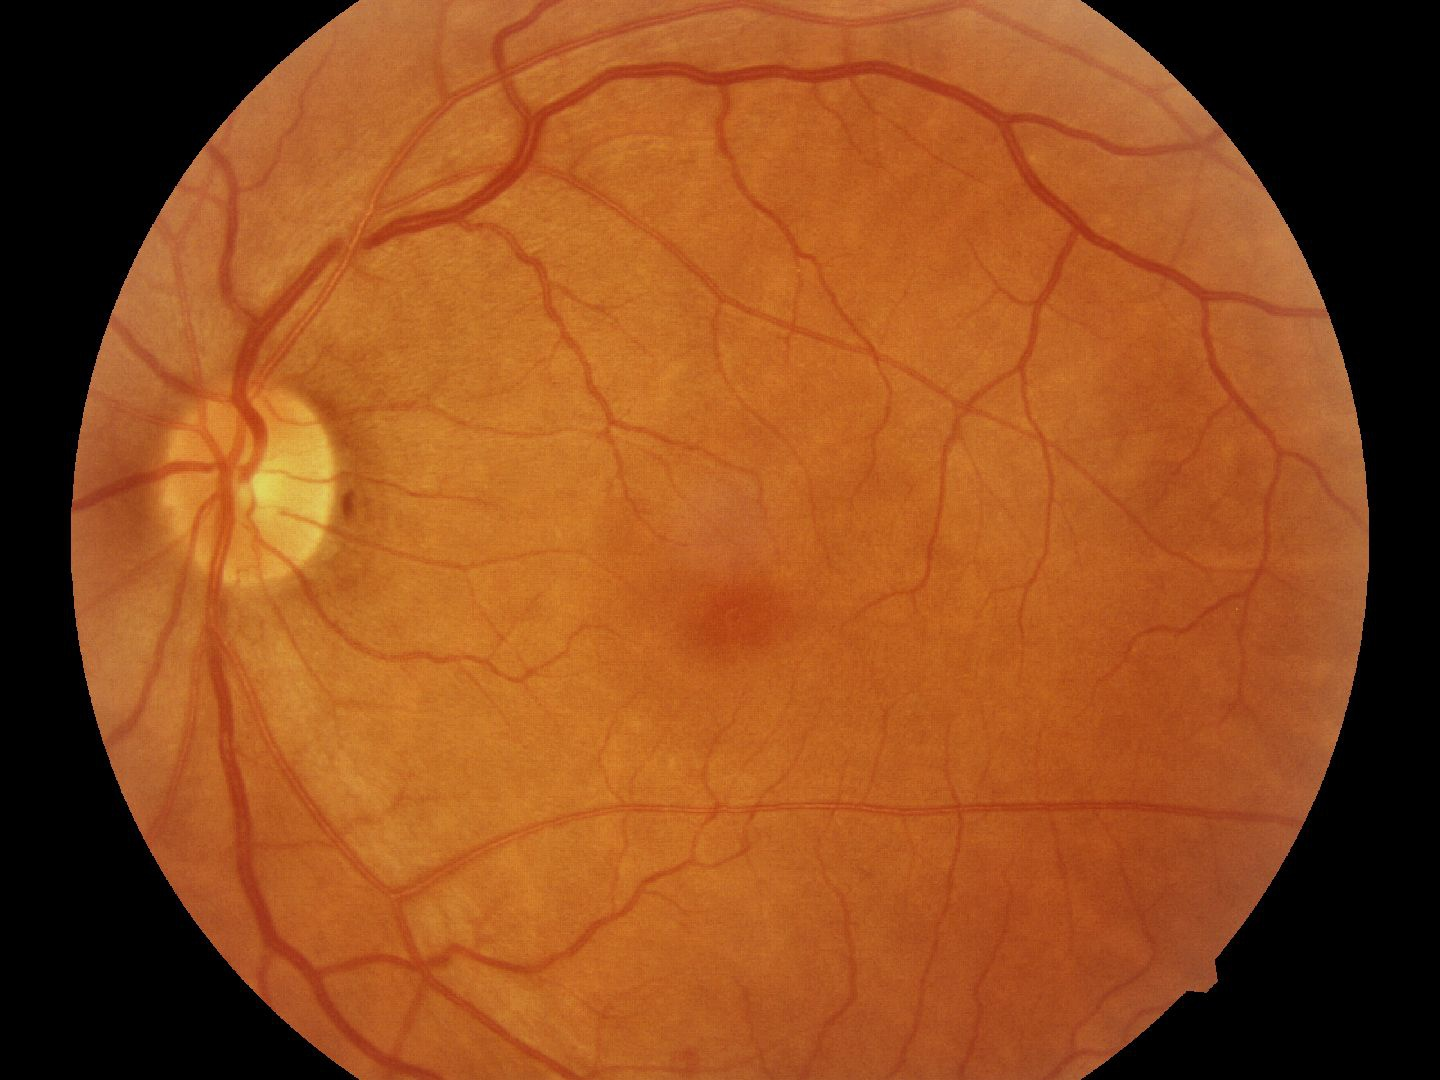Arterioles: (796, 289, 1204, 529), (664, 767, 1073, 971)
Hemorrhages: (646, 535, 819, 684)
Optic-Disc: (154, 354, 366, 616)
Venules: (371, 43, 869, 222), (195, 674, 464, 999)
